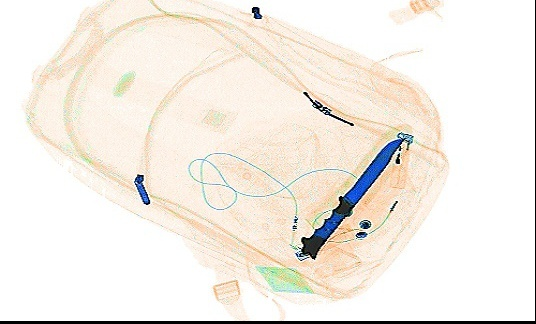knife: (300, 136, 406, 259)
lighter: (291, 221, 354, 263), (389, 132, 414, 189)
